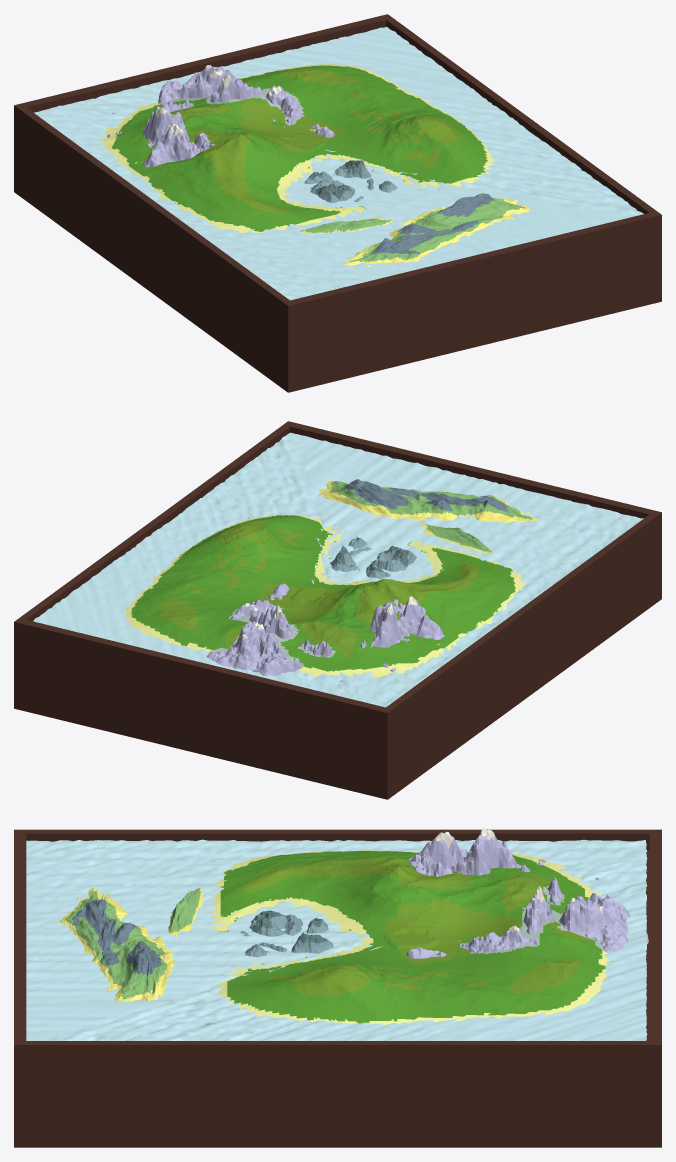
Rendered from map0.2.fbx.
3 renders of one model, top to bottom at view 1: azimuth 30°, elevation 25°; view 2: azimuth 150°, elevation 25°; view 3: azimuth 270°, elevation 25°, orthographic. The views are drawn at different scales.
Visible parts, largest first — view 1: Desk, sea, Landscape.012, Landscape.014, Landscape.013, Landscape.006; view 2: Desk, sea, Landscape.012, Landscape.013, Landscape.014, Landscape.006; view 3: Desk, sea, Landscape.012, Landscape.013, Landscape.014, Landscape.006.
Boxes of the visible parts, left/top/right/bottom form: Desk: left=14, top=14, right=661, bottom=392; sea: left=34, top=27, right=643, bottom=300; Landscape.012: left=100, top=64, right=498, bottom=233; Landscape.014: left=300, top=193, right=529, bottom=266; Landscape.013: left=106, top=65, right=334, bottom=167; Landscape.006: left=304, top=160, right=397, bottom=202; Desk: left=14, top=421, right=661, bottom=799; sea: left=33, top=432, right=643, bottom=707; Landscape.012: left=124, top=514, right=525, bottom=677; Landscape.013: left=206, top=583, right=444, bottom=682; Landscape.014: left=319, top=479, right=538, bottom=553; Landscape.006: left=330, top=537, right=416, bottom=578; Desk: left=14, top=829, right=661, bottom=1147; sea: left=26, top=839, right=647, bottom=1040; Landscape.012: left=210, top=849, right=609, bottom=1024; Landscape.013: left=406, top=828, right=648, bottom=958; Landscape.014: left=59, top=887, right=203, bottom=1001; Landscape.006: left=240, top=910, right=333, bottom=957.
Bounding box in the file's own units: 17542 × 5521 × 22293.
